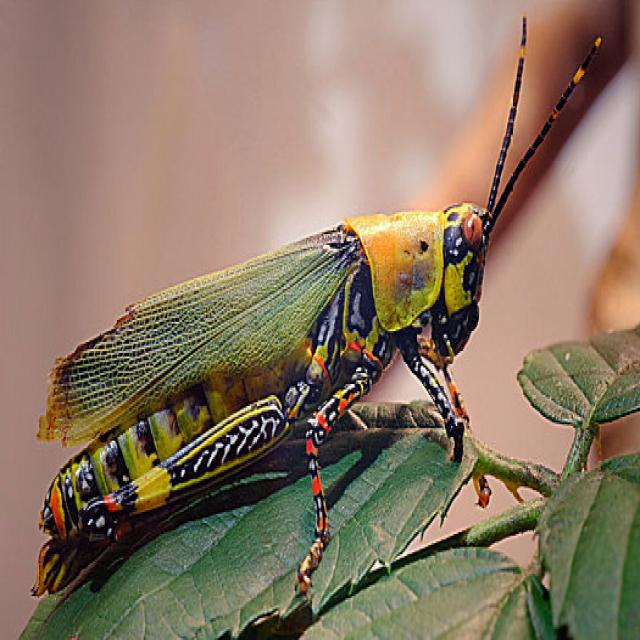ZhaMeng: (26, 71, 578, 599)
